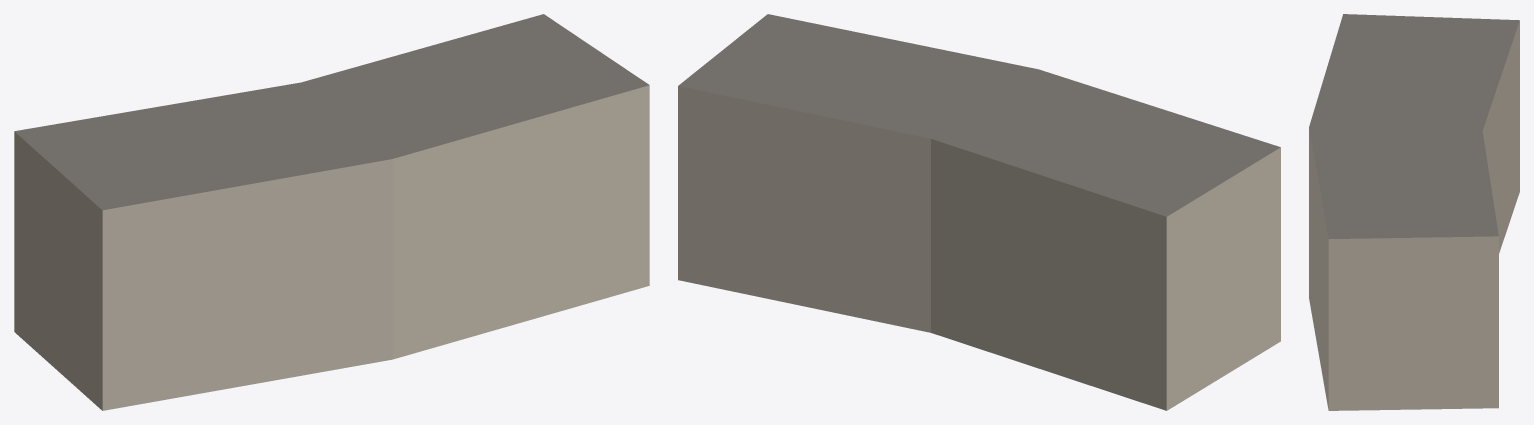
3 views of the same model, side by side, from view 1: azimuth 30°, elevation 25°; view 2: azimuth 150°, elevation 25°; view 3: azimuth 270°, elevation 25° (orthographic). The views are drawn at different scales.
Visible parts, largest first — view 1: HP-w299224156; view 2: HP-w299224156; view 3: HP-w299224156.
Boxes of the visible parts, x1,y1,x2,y2 form: HP-w299224156: (14, 14, 649, 410); HP-w299224156: (678, 14, 1280, 410); HP-w299224156: (1309, 14, 1519, 410).
Size of the model in its own units: 50.59 by 18 by 20.01.
